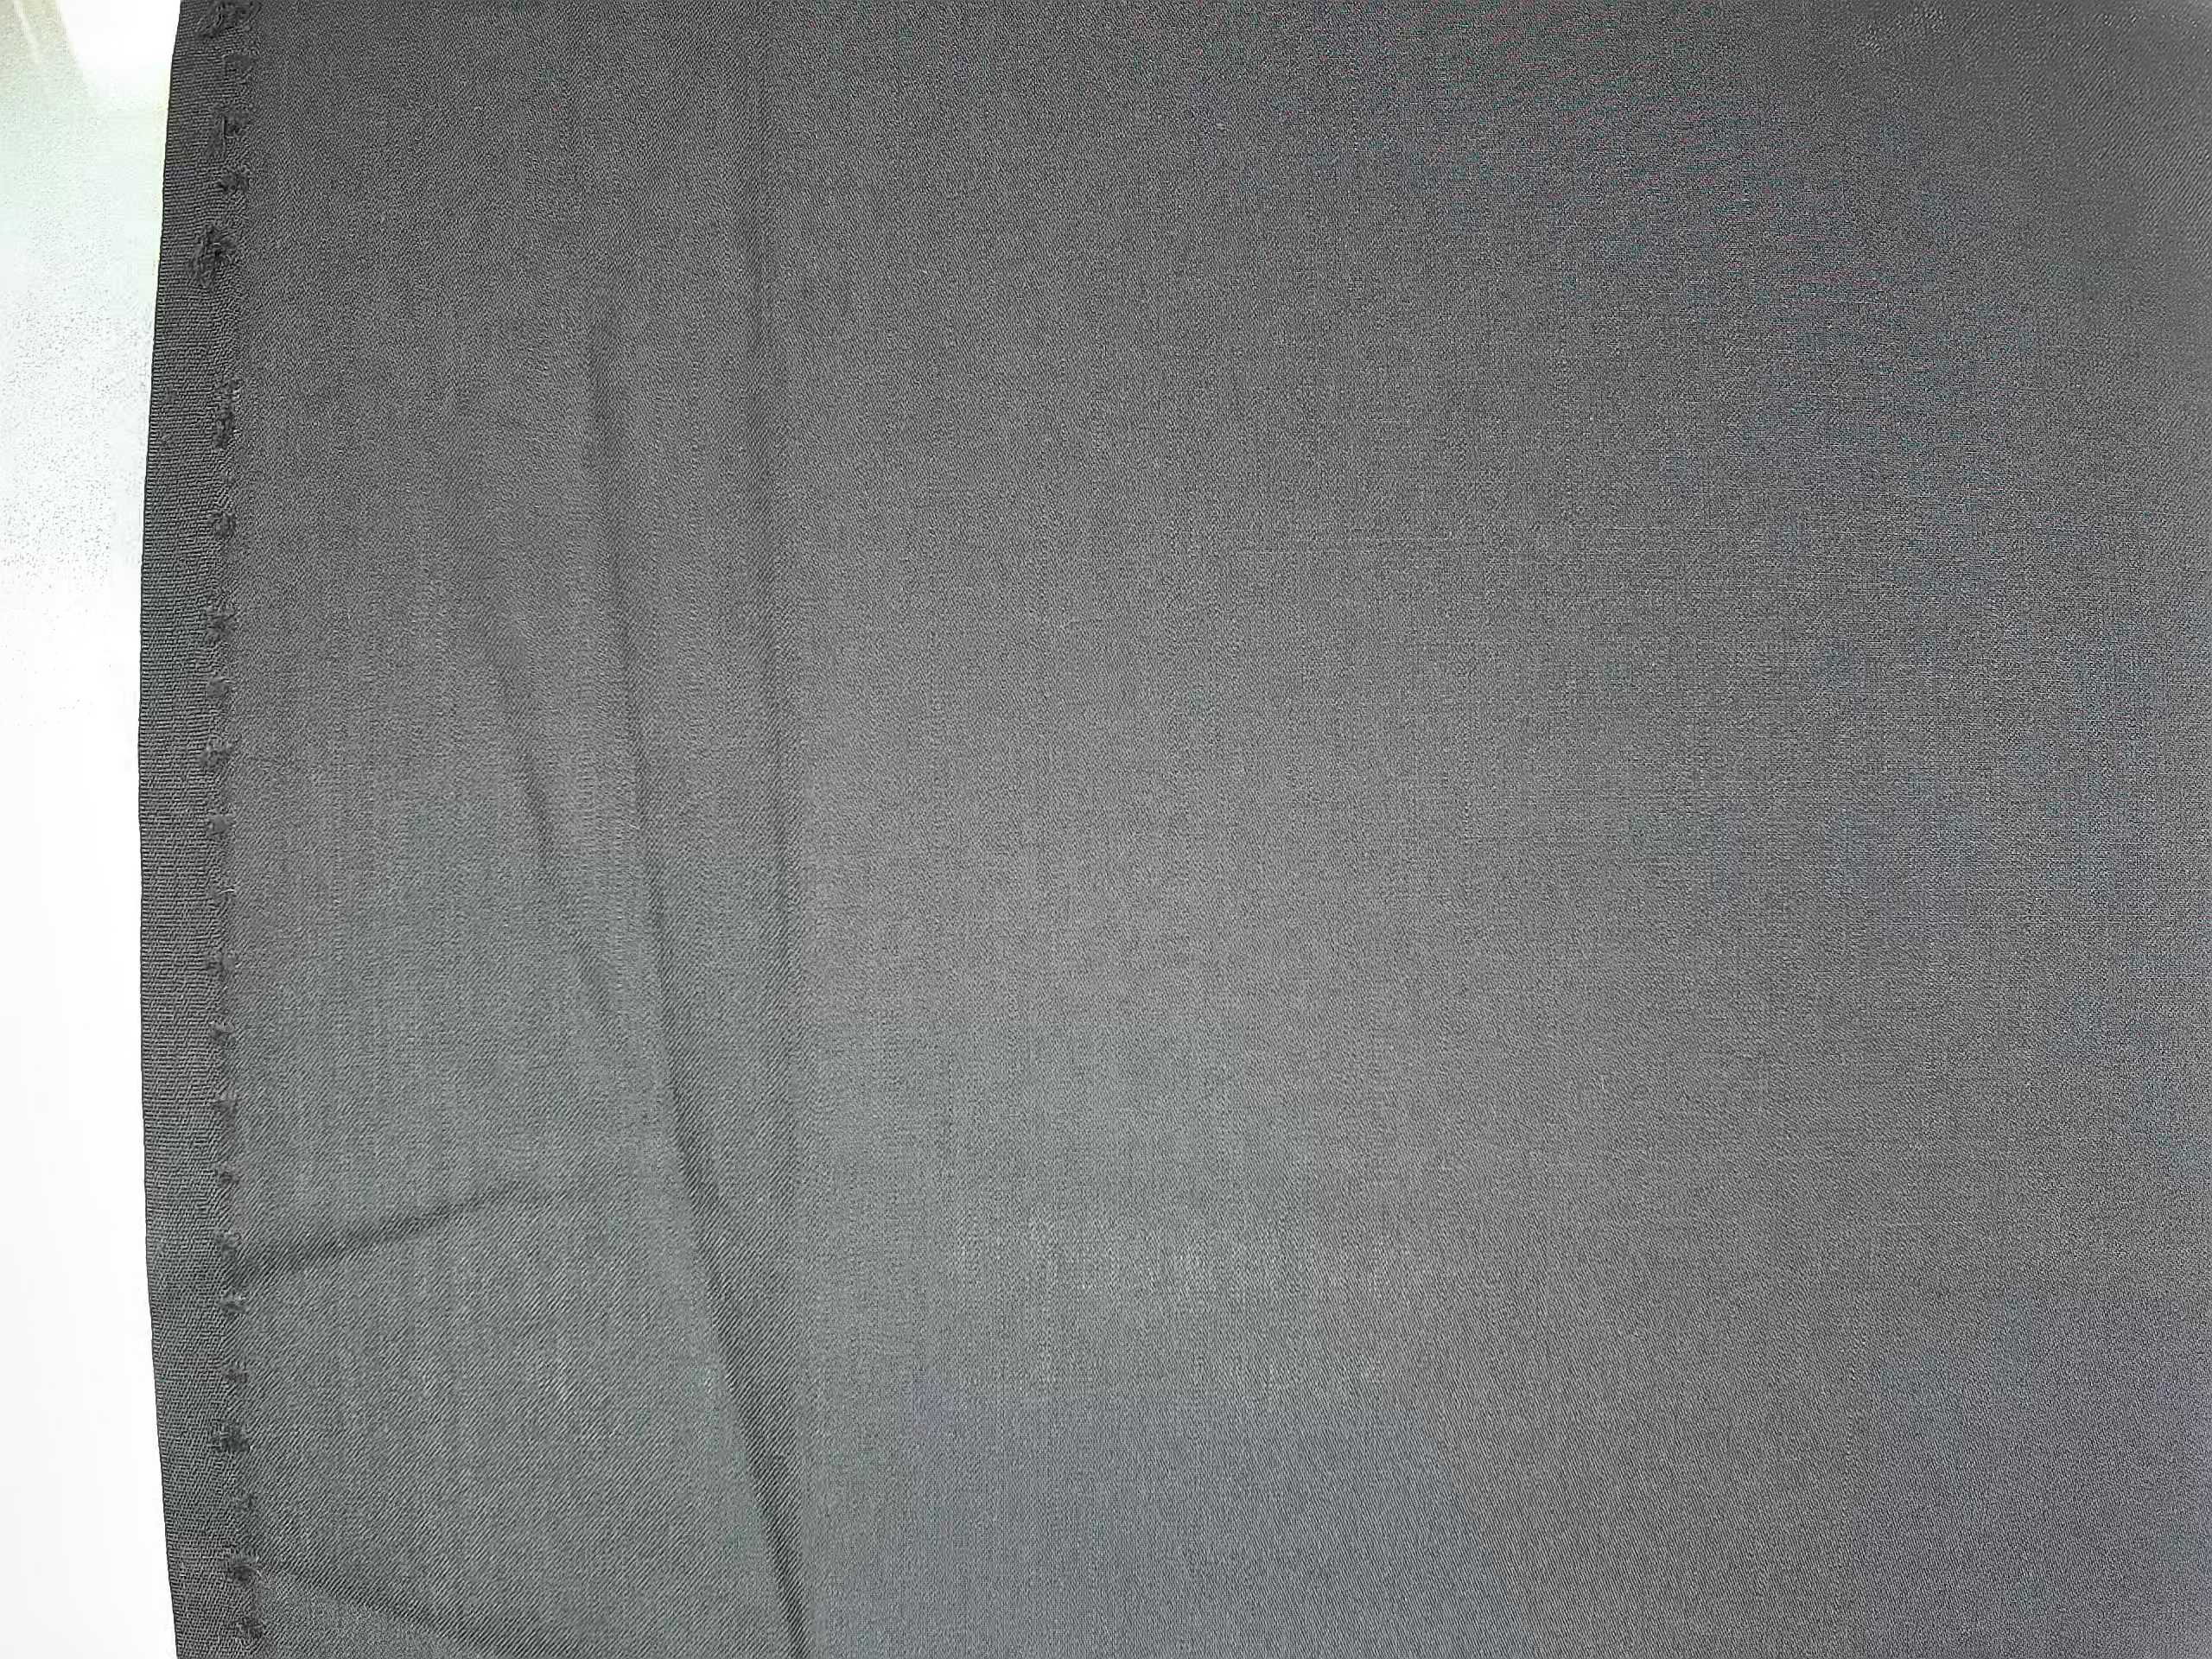puncture-hole: (176, 7, 266, 1656)
